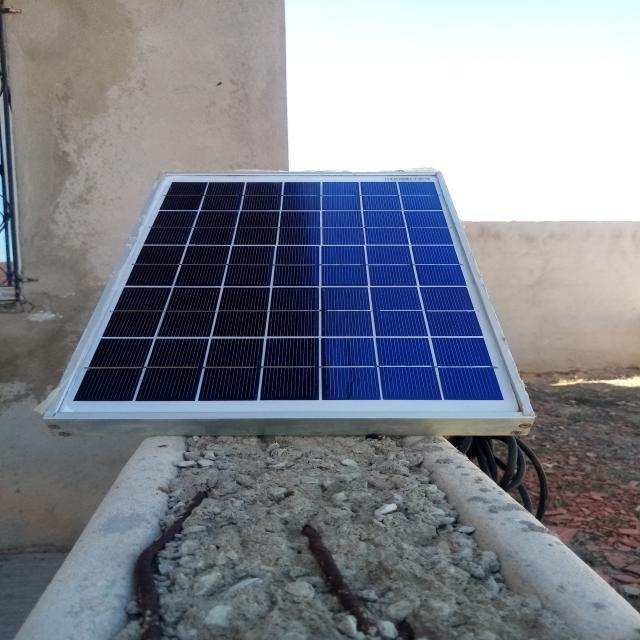no faulty: (50, 172, 531, 416)
